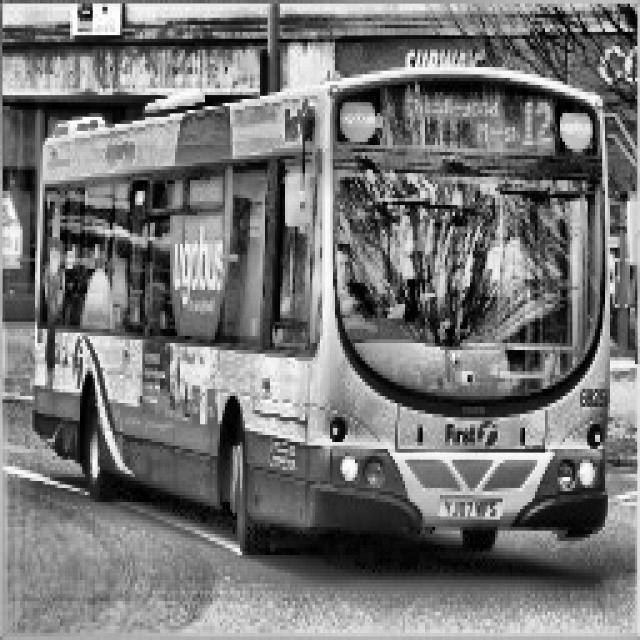carro: (30, 75, 616, 546)
